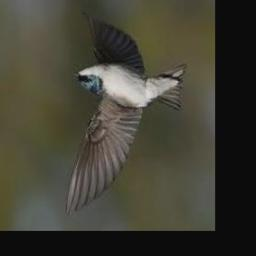Swallow: (64, 12, 186, 216)
